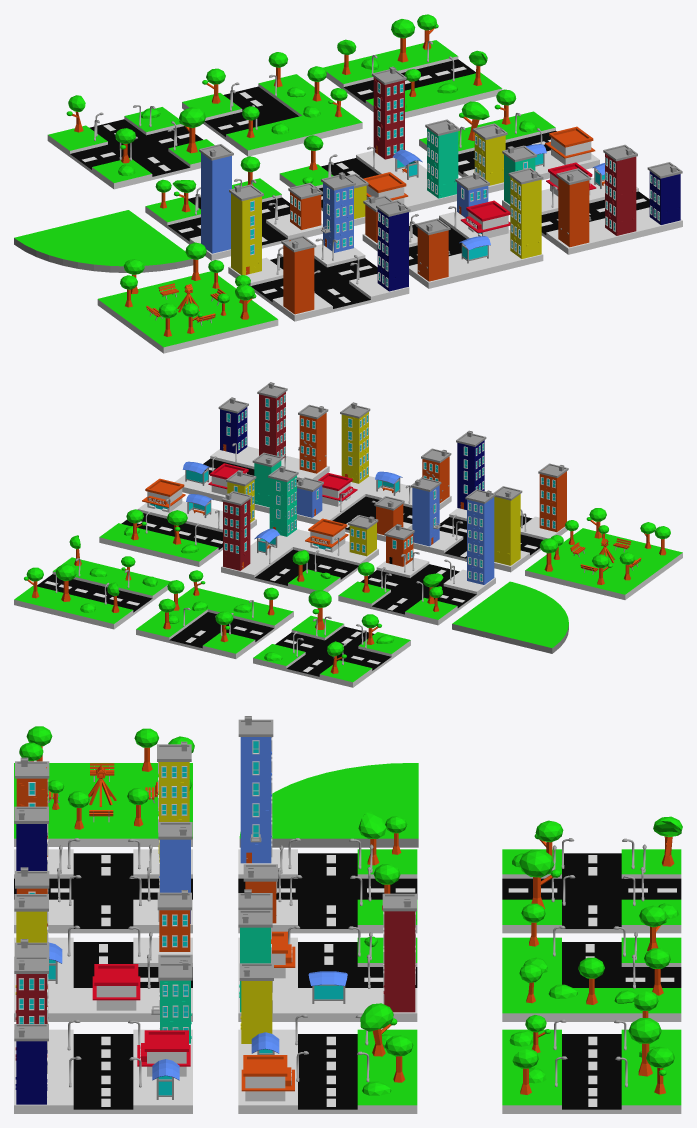
Rendered from mapa.fbx.
3 renders of one model, top to bottom at view 1: azimuth 30°, elevation 25°; view 2: azimuth 150°, elevation 25°; view 3: azimuth 270°, elevation 25°, orthographic. The views are drawn at different scales.
Parts seen in each view (by area): view 1: Cube.003, Cube.009, Cube.002, Cube.006, Cube.001, Cube.010, Cube.004, Cube.008, Cube.011, Cube.005, Cube.007; view 2: Cube.006, Cube.009, Cube.003, Cube.004, Cube.002, Cube.001, Cube.010, Cube.008, Cube.011, Cube.007, Cube.005; view 3: Cube.009, Cube.003, Cube.004, Cube.007, Cube.011, Cube.010, Cube.008, Cube.006, Cube.002, Cube.001, Cube.005.
Part boxes in pixels (x1,y1,x2,y2): Cube.003: (228, 172, 410, 321); Cube.009: (393, 144, 682, 263); Cube.002: (362, 167, 543, 288); Cube.006: (279, 66, 459, 225); Cube.001: (97, 242, 278, 353); Cube.010: (182, 52, 362, 156); Cube.004: (145, 144, 322, 260); Cube.008: (47, 95, 214, 189); Cube.011: (323, 14, 502, 118); Cube.005: (14, 210, 193, 272); Cube.007: (419, 89, 599, 193); Cube.006: (221, 466, 378, 593); Cube.009: (174, 382, 402, 555); Cube.003: (410, 430, 568, 572); Cube.004: (338, 489, 495, 625); Cube.002: (297, 402, 451, 541); Cube.001: (525, 508, 682, 599); Cube.010: (136, 570, 293, 658); Cube.008: (253, 590, 410, 687); Cube.011: (14, 535, 170, 629); Cube.007: (99, 470, 256, 566); Cube.005: (452, 581, 568, 653); Cube.009: (14, 939, 347, 1113); Cube.003: (14, 741, 192, 933); Cube.004: (238, 716, 417, 933); Cube.007: (238, 963, 417, 1113); Cube.011: (502, 990, 681, 1113); Cube.010: (502, 903, 681, 1021); Cube.008: (502, 816, 682, 933); Cube.006: (238, 889, 417, 1021); Cube.002: (14, 867, 192, 1021); Cube.001: (14, 726, 194, 846); Cube.005: (239, 763, 418, 847).
Bounding box in the file's own units: 906 × 178 × 748.
